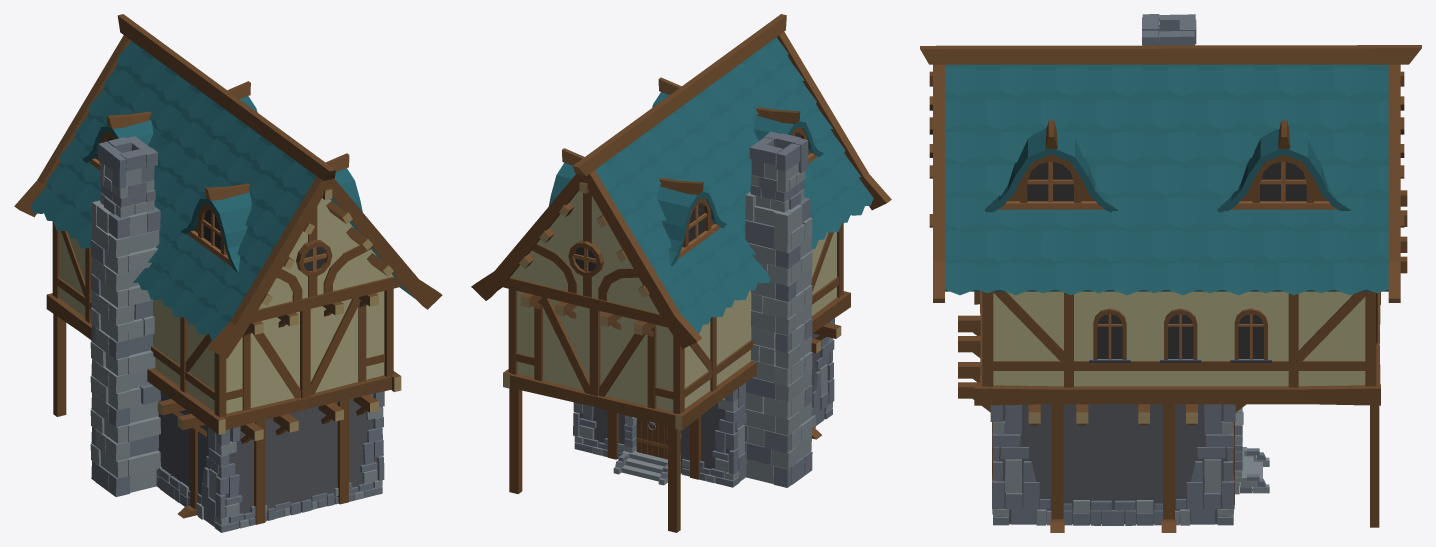
The model's file is House_2.glb.
3 views of the same model, side by side, from view 1: azimuth 30°, elevation 25°; view 2: azimuth 150°, elevation 25°; view 3: azimuth 270°, elevation 25° (orthographic). The views are drawn at different scales.
Parts seen in each view (by area): view 1: House_2; view 2: House_2; view 3: House_2.
Boxes of the visible parts, left/top/right/bottom form: House_2: left=14, top=14, right=442, bottom=532; House_2: left=471, top=14, right=891, bottom=532; House_2: left=920, top=14, right=1421, bottom=532.
Size of the model in its own units: 2.22 by 3.25 by 3.42.
